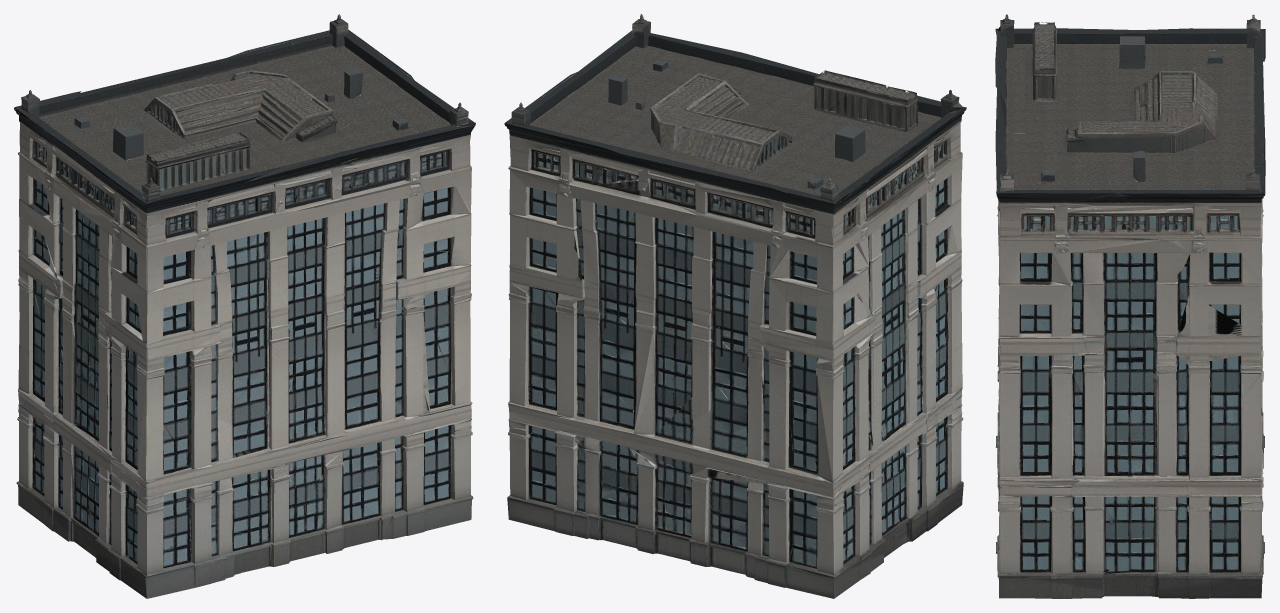
File: city_building_4.glb
3 views of the same model, side by side, from view 1: azimuth 30°, elevation 25°; view 2: azimuth 150°, elevation 25°; view 3: azimuth 270°, elevation 25° (orthographic). The views are drawn at different scales.
Visible parts, largest first — view 1: output_unwrapped; view 2: output_unwrapped; view 3: output_unwrapped.
Part boxes in pixels (x1,y1,x2,y2): output_unwrapped: (14,14,475,598); output_unwrapped: (504,14,966,598); output_unwrapped: (995,14,1265,598).
Size of the model in its own units: 1.57 by 1.9 by 1.09.
1 material, 1 textured.
